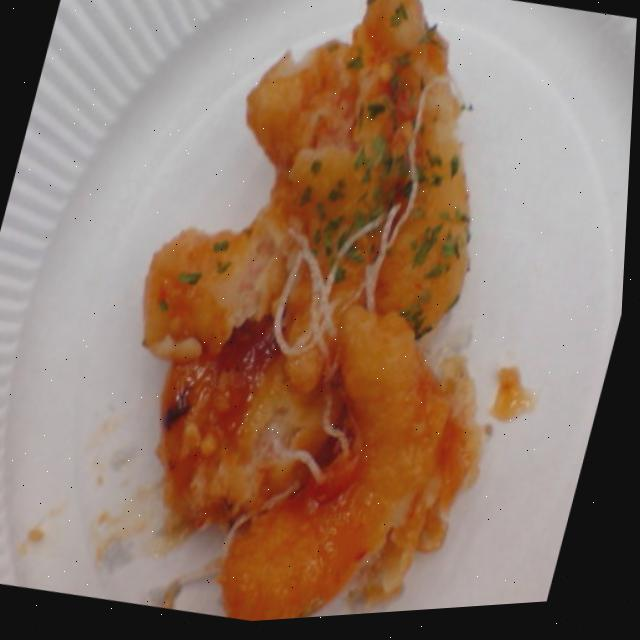熟制海鲜: (54, 0, 637, 636)
